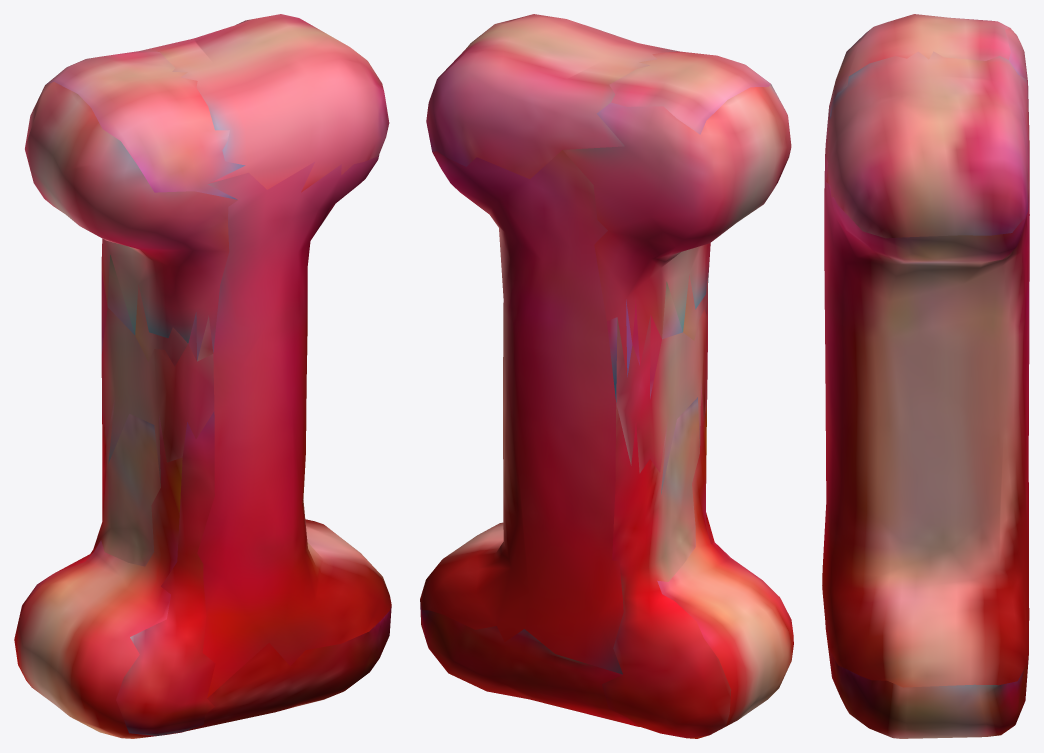
3 views of the same model, side by side, from view 1: azimuth 30°, elevation 25°; view 2: azimuth 150°, elevation 25°; view 3: azimuth 270°, elevation 25° (orthographic). The views are drawn at different scales.
Visible parts, largest first — view 1: Candy-Letter-I; view 2: Candy-Letter-I; view 3: Candy-Letter-I.
Boxes of the visible parts, bbox=[...] form: Candy-Letter-I: bbox=[14, 14, 391, 738]; Candy-Letter-I: bbox=[420, 14, 793, 738]; Candy-Letter-I: bbox=[822, 14, 1029, 738].
Bounding box in the file's own units: 0.1845 × 0.351 × 0.1052.
1 material, 1 textured.
